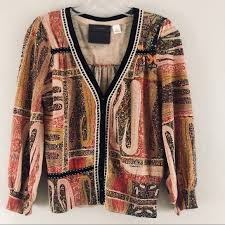C_cardigan sweater: (7, 9, 204, 225)
